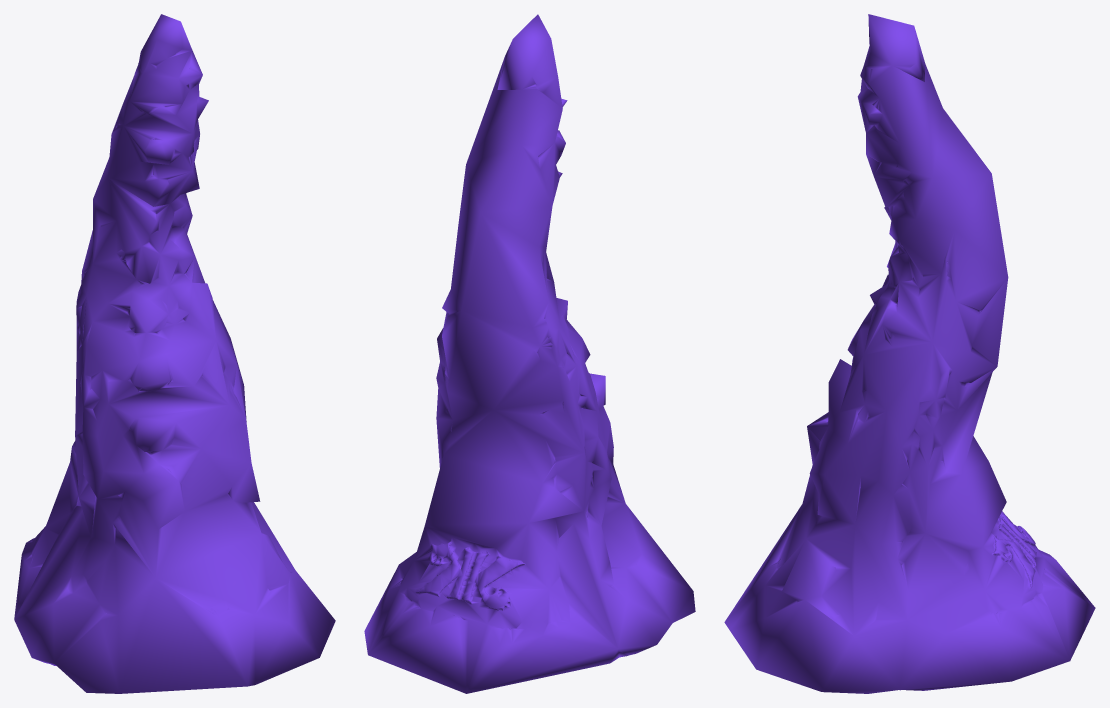
The model's file is small-machine-ar.glb.
3 renders of one model, left to right at view 1: azimuth 30°, elevation 25°; view 2: azimuth 150°, elevation 25°; view 3: azimuth 270°, elevation 25°, orthographic. The views are drawn at different scales.
Size of the model in its own units: 0.1118 by 0.2417 by 0.1322.
